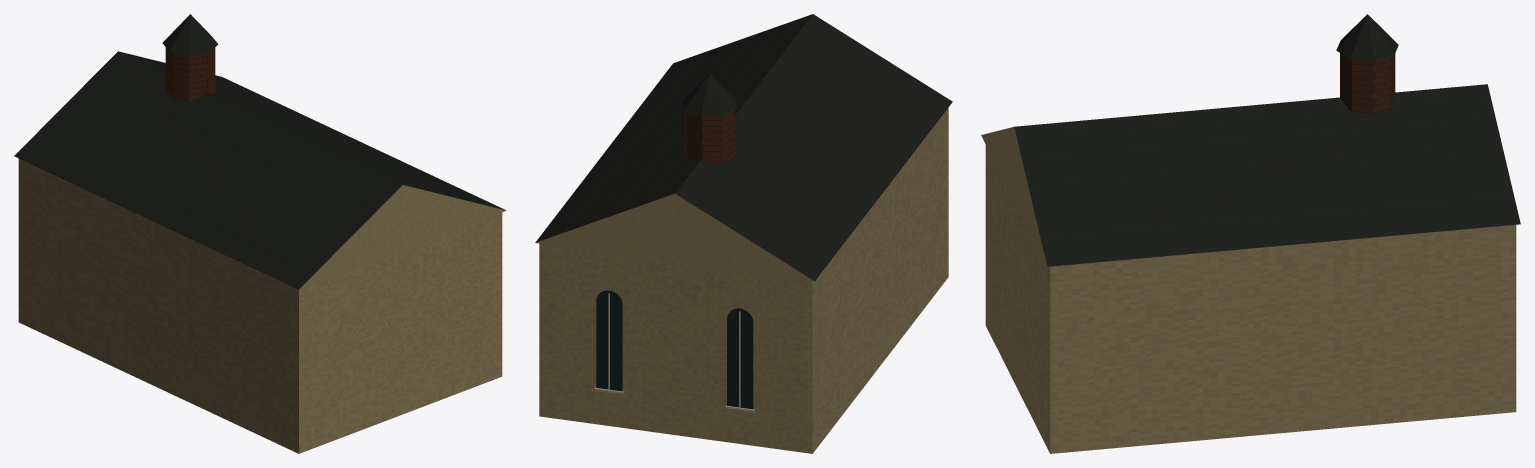
The picture shows the model from 3 angles, left to right: view 1: azimuth 30°, elevation 25°; view 2: azimuth 150°, elevation 25°; view 3: azimuth 270°, elevation 25°; orthographic projection. The views are drawn at different scales.
Visible parts, largest first — view 1: laurentius-houttuin-2, laurentius-houttuin-1, laurentius-houttuin-0; view 2: laurentius-houttuin-2, laurentius-houttuin-1, laurentius-houttuin-3, laurentius-houttuin-0, laurentius-houttuin-4; view 3: laurentius-houttuin-2, laurentius-houttuin-1, laurentius-houttuin-0.
Part boxes in pixels (x1,y1,x2,y2): laurentius-houttuin-2: (18, 158, 506, 453); laurentius-houttuin-1: (14, 14, 505, 289); laurentius-houttuin-0: (165, 47, 215, 101); laurentius-houttuin-2: (535, 108, 948, 453); laurentius-houttuin-1: (535, 14, 952, 280); laurentius-houttuin-3: (596, 290, 753, 409); laurentius-houttuin-0: (685, 110, 734, 164); laurentius-houttuin-4: (594, 293, 754, 411); laurentius-houttuin-2: (981, 127, 1516, 453); laurentius-houttuin-1: (1014, 14, 1520, 266); laurentius-houttuin-0: (1340, 53, 1395, 113).
Bounding box in the file's own units: 27.68 × 25.5 × 36.24.
Materials: 5 (5 with a texture image).
